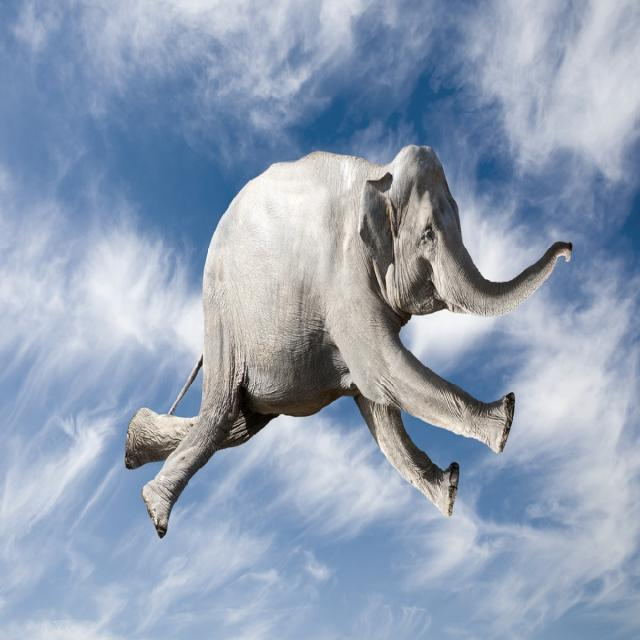Elephant: (98, 101, 562, 584)
